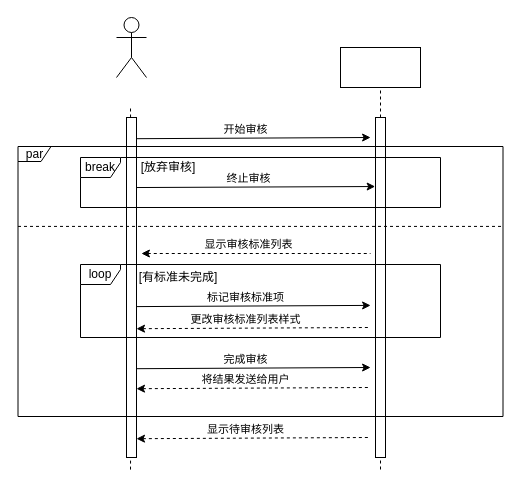
Some shapes in this 521 by 489 pixel diagram are drawn without their labels. Here are the shapes that lost their labels. From the top down, the box of each, then its label:
(116, 16, 146, 78): 审核人员
(340, 46, 420, 88): :系统
